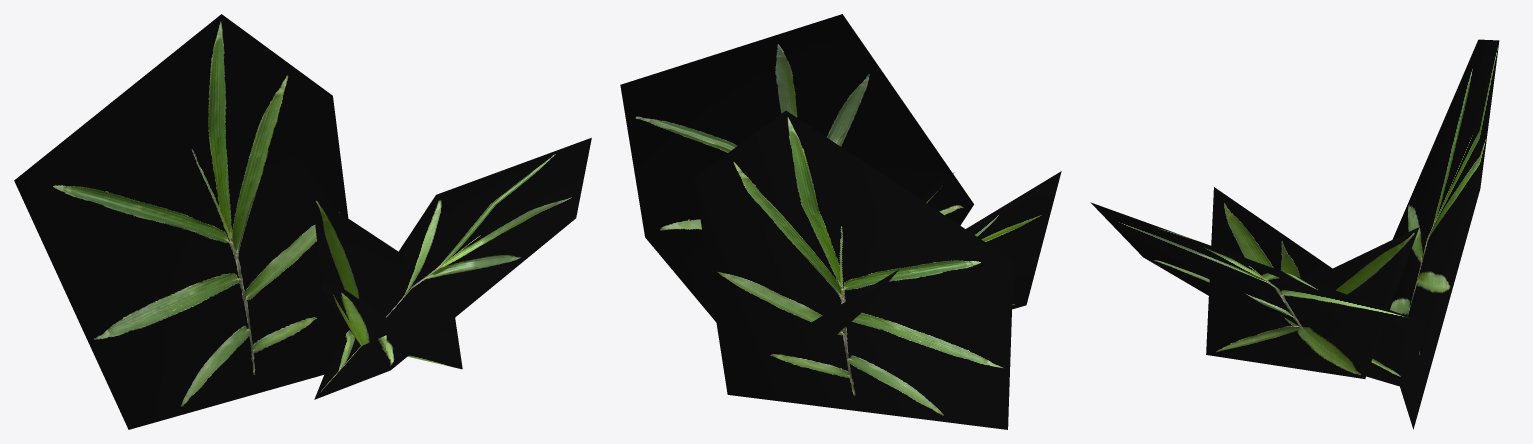
File: m_grass_29_2.fbx
The picture shows the model from 3 angles, left to right: view 1: azimuth 30°, elevation 25°; view 2: azimuth 150°, elevation 25°; view 3: azimuth 270°, elevation 25°; orthographic projection.
Visible parts, largest first — view 1: mesh_grass_29_2_LOD0; view 2: mesh_grass_29_2_LOD0; view 3: mesh_grass_29_2_LOD0.
Boxes of the visible parts, left/top/right/bottom form: mesh_grass_29_2_LOD0: left=14, top=14, right=591, bottom=429; mesh_grass_29_2_LOD0: left=620, top=14, right=1061, bottom=429; mesh_grass_29_2_LOD0: left=1090, top=39, right=1499, bottom=429.
Bounding box in the file's own units: 0.7425 × 0.4989 × 0.5697.
